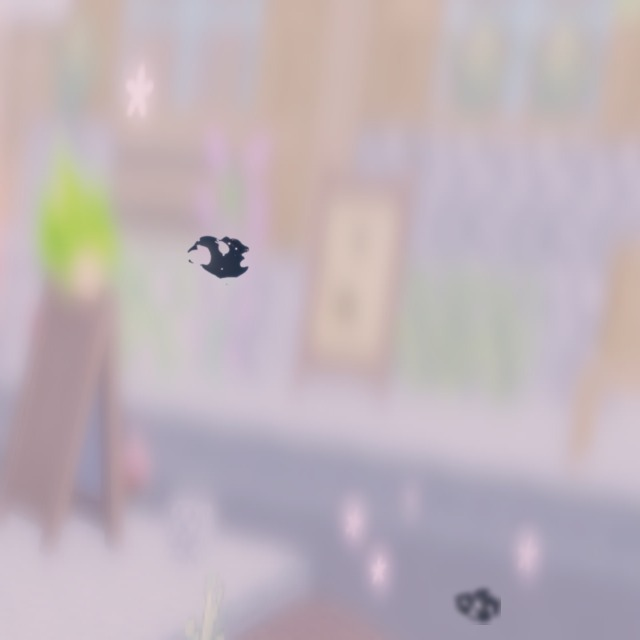urso_preto: (172, 215, 268, 298), (450, 584, 501, 625)
